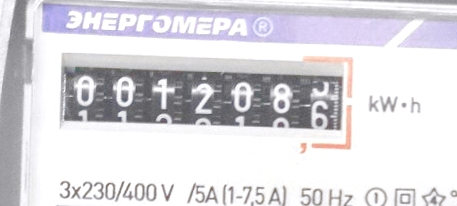0: (229, 77, 255, 113), (112, 71, 136, 108), (74, 70, 95, 107)
1: (153, 73, 171, 111)
2: (190, 79, 217, 115)
6: (307, 95, 331, 130)
8: (268, 79, 292, 115)
screen: (48, 39, 363, 164)
